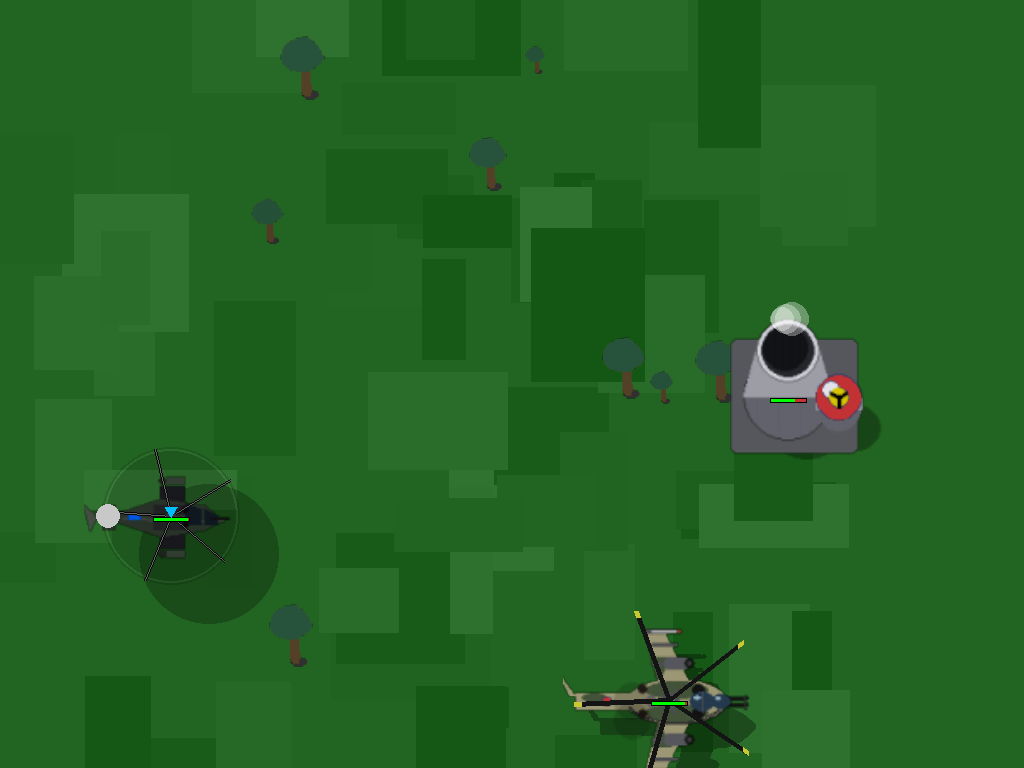APC_usa: (738, 347, 804, 447)
Barracks: (619, 650, 719, 750)
CombatEngineer: (121, 466, 221, 566)
